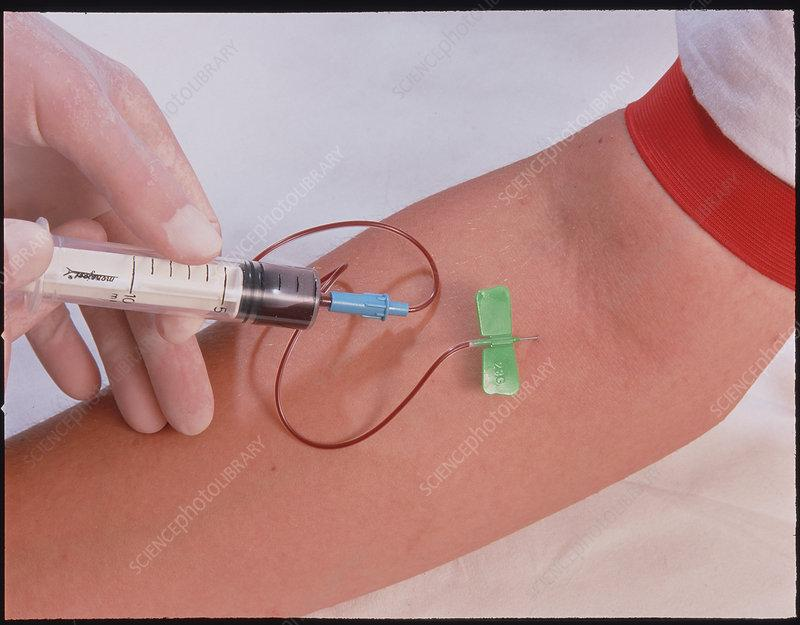Syringe: (20, 235, 408, 328)
